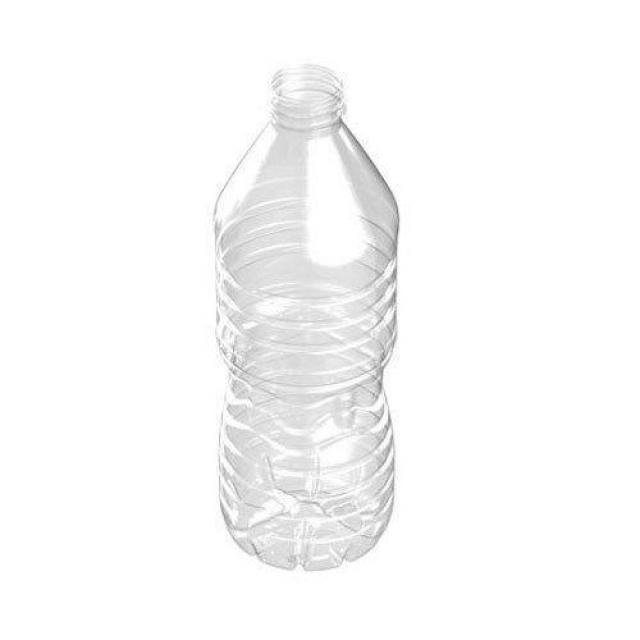plastic_bottle: (203, 56, 412, 590)
